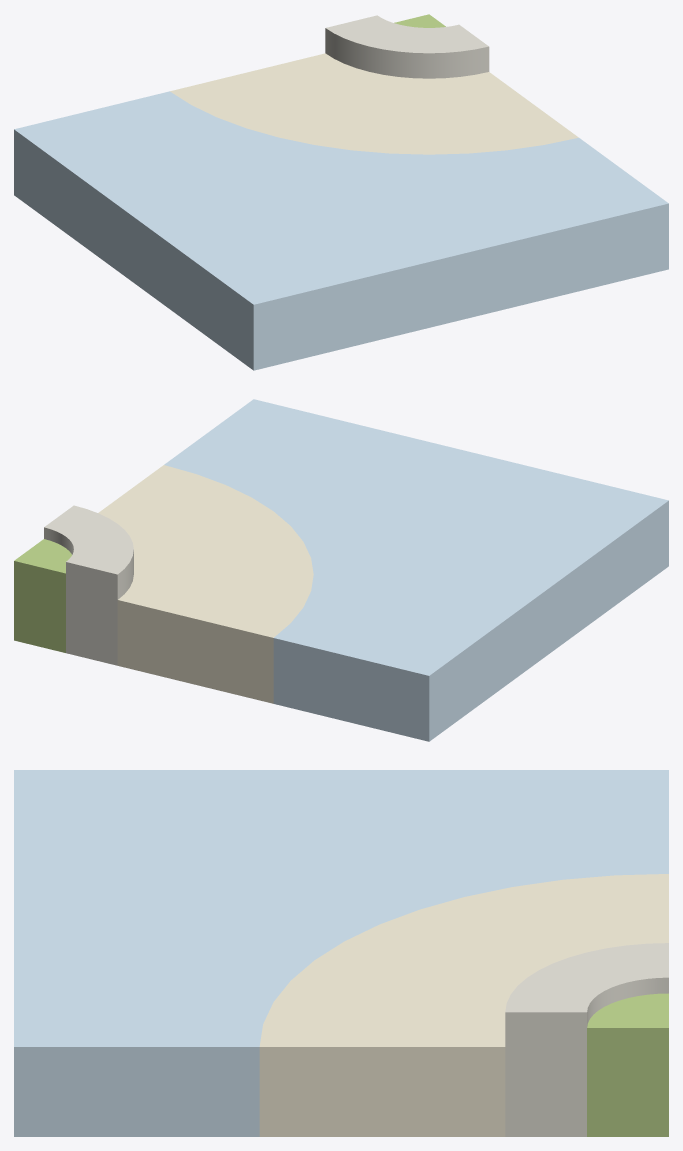
File: tile155.gltf
3 renders of one model, top to bottom at view 1: azimuth 30°, elevation 25°; view 2: azimuth 150°, elevation 25°; view 3: azimuth 270°, elevation 25°, orthographic. The views are drawn at different scales.
Visible parts, largest first — view 1: tile155; view 2: tile155; view 3: tile155.
Part boxes in pixels (<box>): tile155: <box>14,14,668,370</box>; tile155: <box>14,399,668,741</box>; tile155: <box>14,770,668,1136</box>.
Bounding box in the file's own units: 1 × 0.21 × 1.
